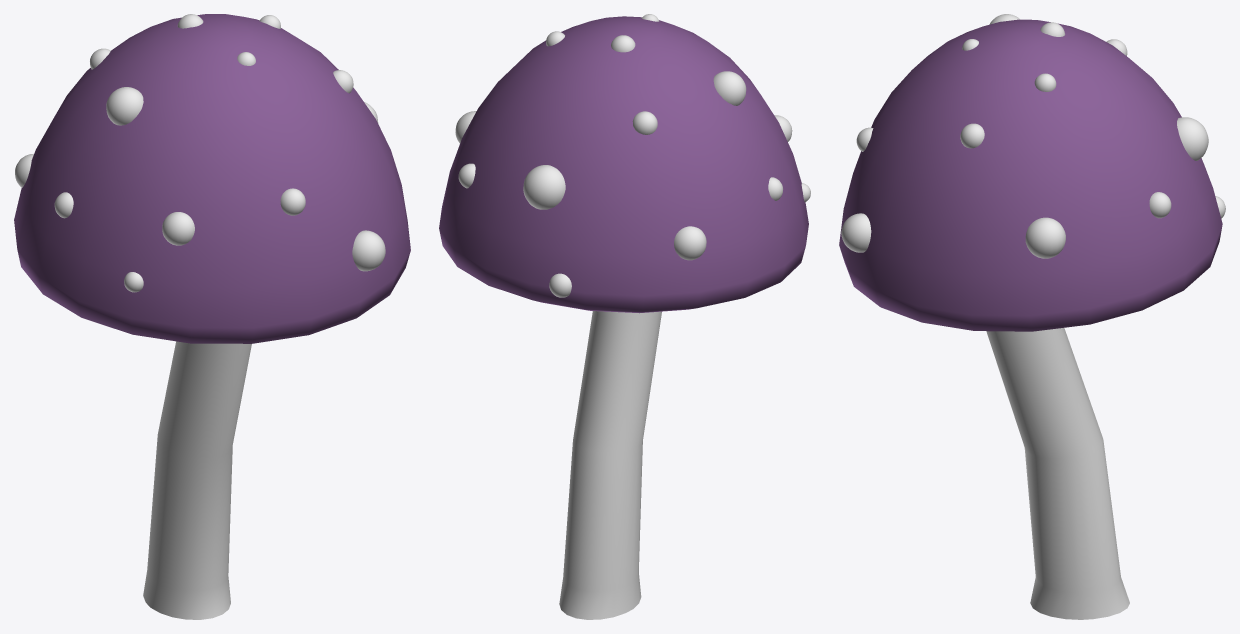
Rendered from Mushroom3V1.fbx.
3 views of the same model, side by side, from view 1: azimuth 30°, elevation 25°; view 2: azimuth 150°, elevation 25°; view 3: azimuth 270°, elevation 25° (orthographic). The views are drawn at different scales.
Parts seen in each view (by area): view 1: pSphere1, pCylinder1, pSphere17, pSphere6, pSphere3, pSphere15; view 2: pSphere1, pCylinder1, pSphere16, pSphere11, pSphere17; view 3: pSphere1, pCylinder1, pSphere13, pSphere16, pSphere6.
Boxes of the visible parts, left/top/right/bottom form: pSphere1: left=14, top=14, right=410, bottom=343; pCylinder1: left=143, top=341, right=251, bottom=619; pSphere17: left=106, top=87, right=143, bottom=125; pSphere6: left=352, top=230, right=385, bottom=271; pSphere3: left=162, top=212, right=194, bottom=245; pSphere15: left=280, top=188, right=305, bottom=215; pSphere1: left=439, top=16, right=808, bottom=313; pCylinder1: left=559, top=311, right=661, bottom=619; pSphere16: left=523, top=165, right=565, bottom=209; pSphere11: left=674, top=226, right=706, bottom=260; pSphere17: left=713, top=71, right=746, bottom=105; pSphere1: left=839, top=19, right=1222, bottom=331; pCylinder1: left=986, top=328, right=1129, bottom=619; pSphere13: left=1025, top=217, right=1065, bottom=258; pSphere16: left=1177, top=117, right=1208, bottom=160; pSphere6: left=841, top=213, right=871, bottom=252.
Size of the model in its own units: 4.78 by 7.89 by 4.81.
